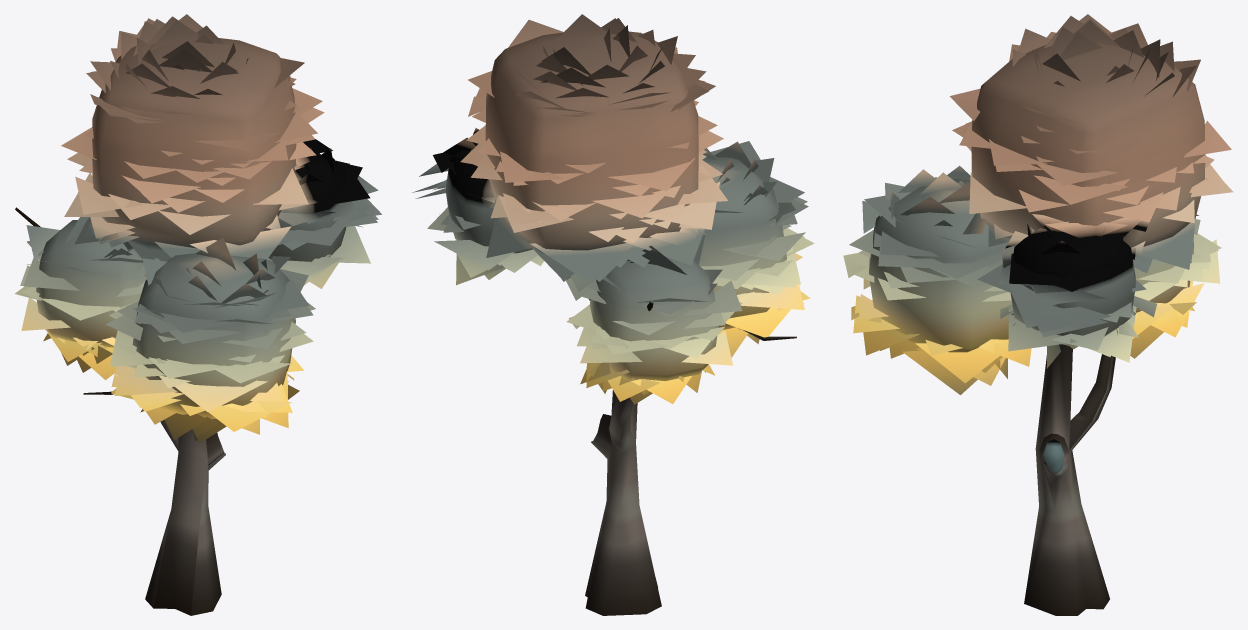
The model's file is Tree_5B.fbx.
3 views of the same model, side by side, from view 1: azimuth 30°, elevation 25°; view 2: azimuth 150°, elevation 25°; view 3: azimuth 270°, elevation 25° (orthographic). The views are drawn at different scales.
Parts seen in each view (by area): view 1: Tree_5B; view 2: Tree_5B; view 3: Tree_5B.
Part boxes in pixels (<box>): Tree_5B: <box>15,14,381,615</box>; Tree_5B: <box>412,14,814,615</box>; Tree_5B: <box>843,14,1233,615</box>.
Size of the model in its own units: 5.85 by 9.53 by 5.89.
